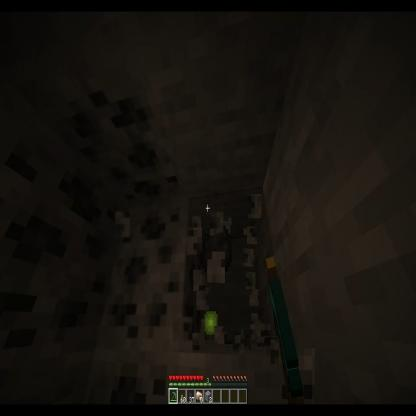coal ore: (99, 200, 192, 352), (74, 90, 166, 206)
